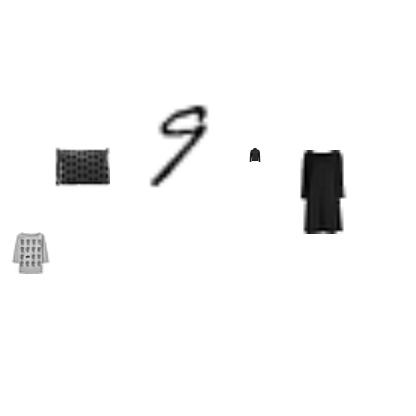9: (123, 82, 235, 194)
Bag: (54, 138, 110, 194)
Coat: (248, 148, 262, 162)
Dress: (280, 150, 364, 234)
T-shirt/top: (9, 232, 51, 274)
